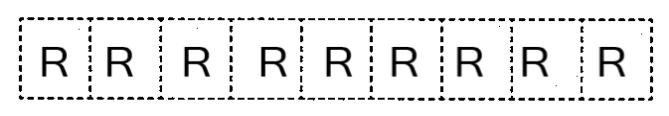R: (384, 41, 426, 82), (178, 40, 218, 83), (321, 40, 360, 83), (450, 40, 489, 81), (102, 42, 140, 84), (36, 40, 72, 83), (254, 40, 290, 83), (516, 42, 554, 82), (593, 41, 631, 81)
